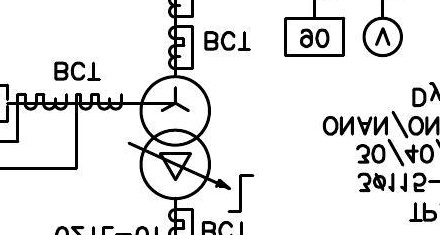11522_tx_dyn1: (139, 74, 212, 201)
v_m: (361, 16, 404, 58)
